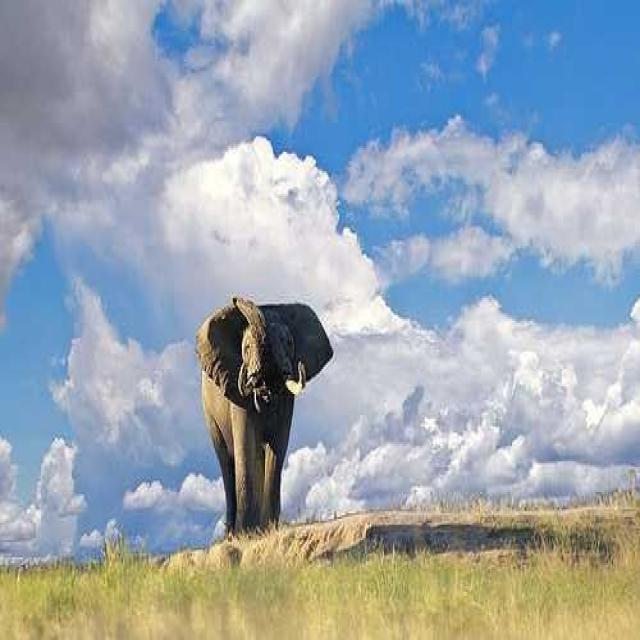Elephant: (193, 294, 333, 538)
